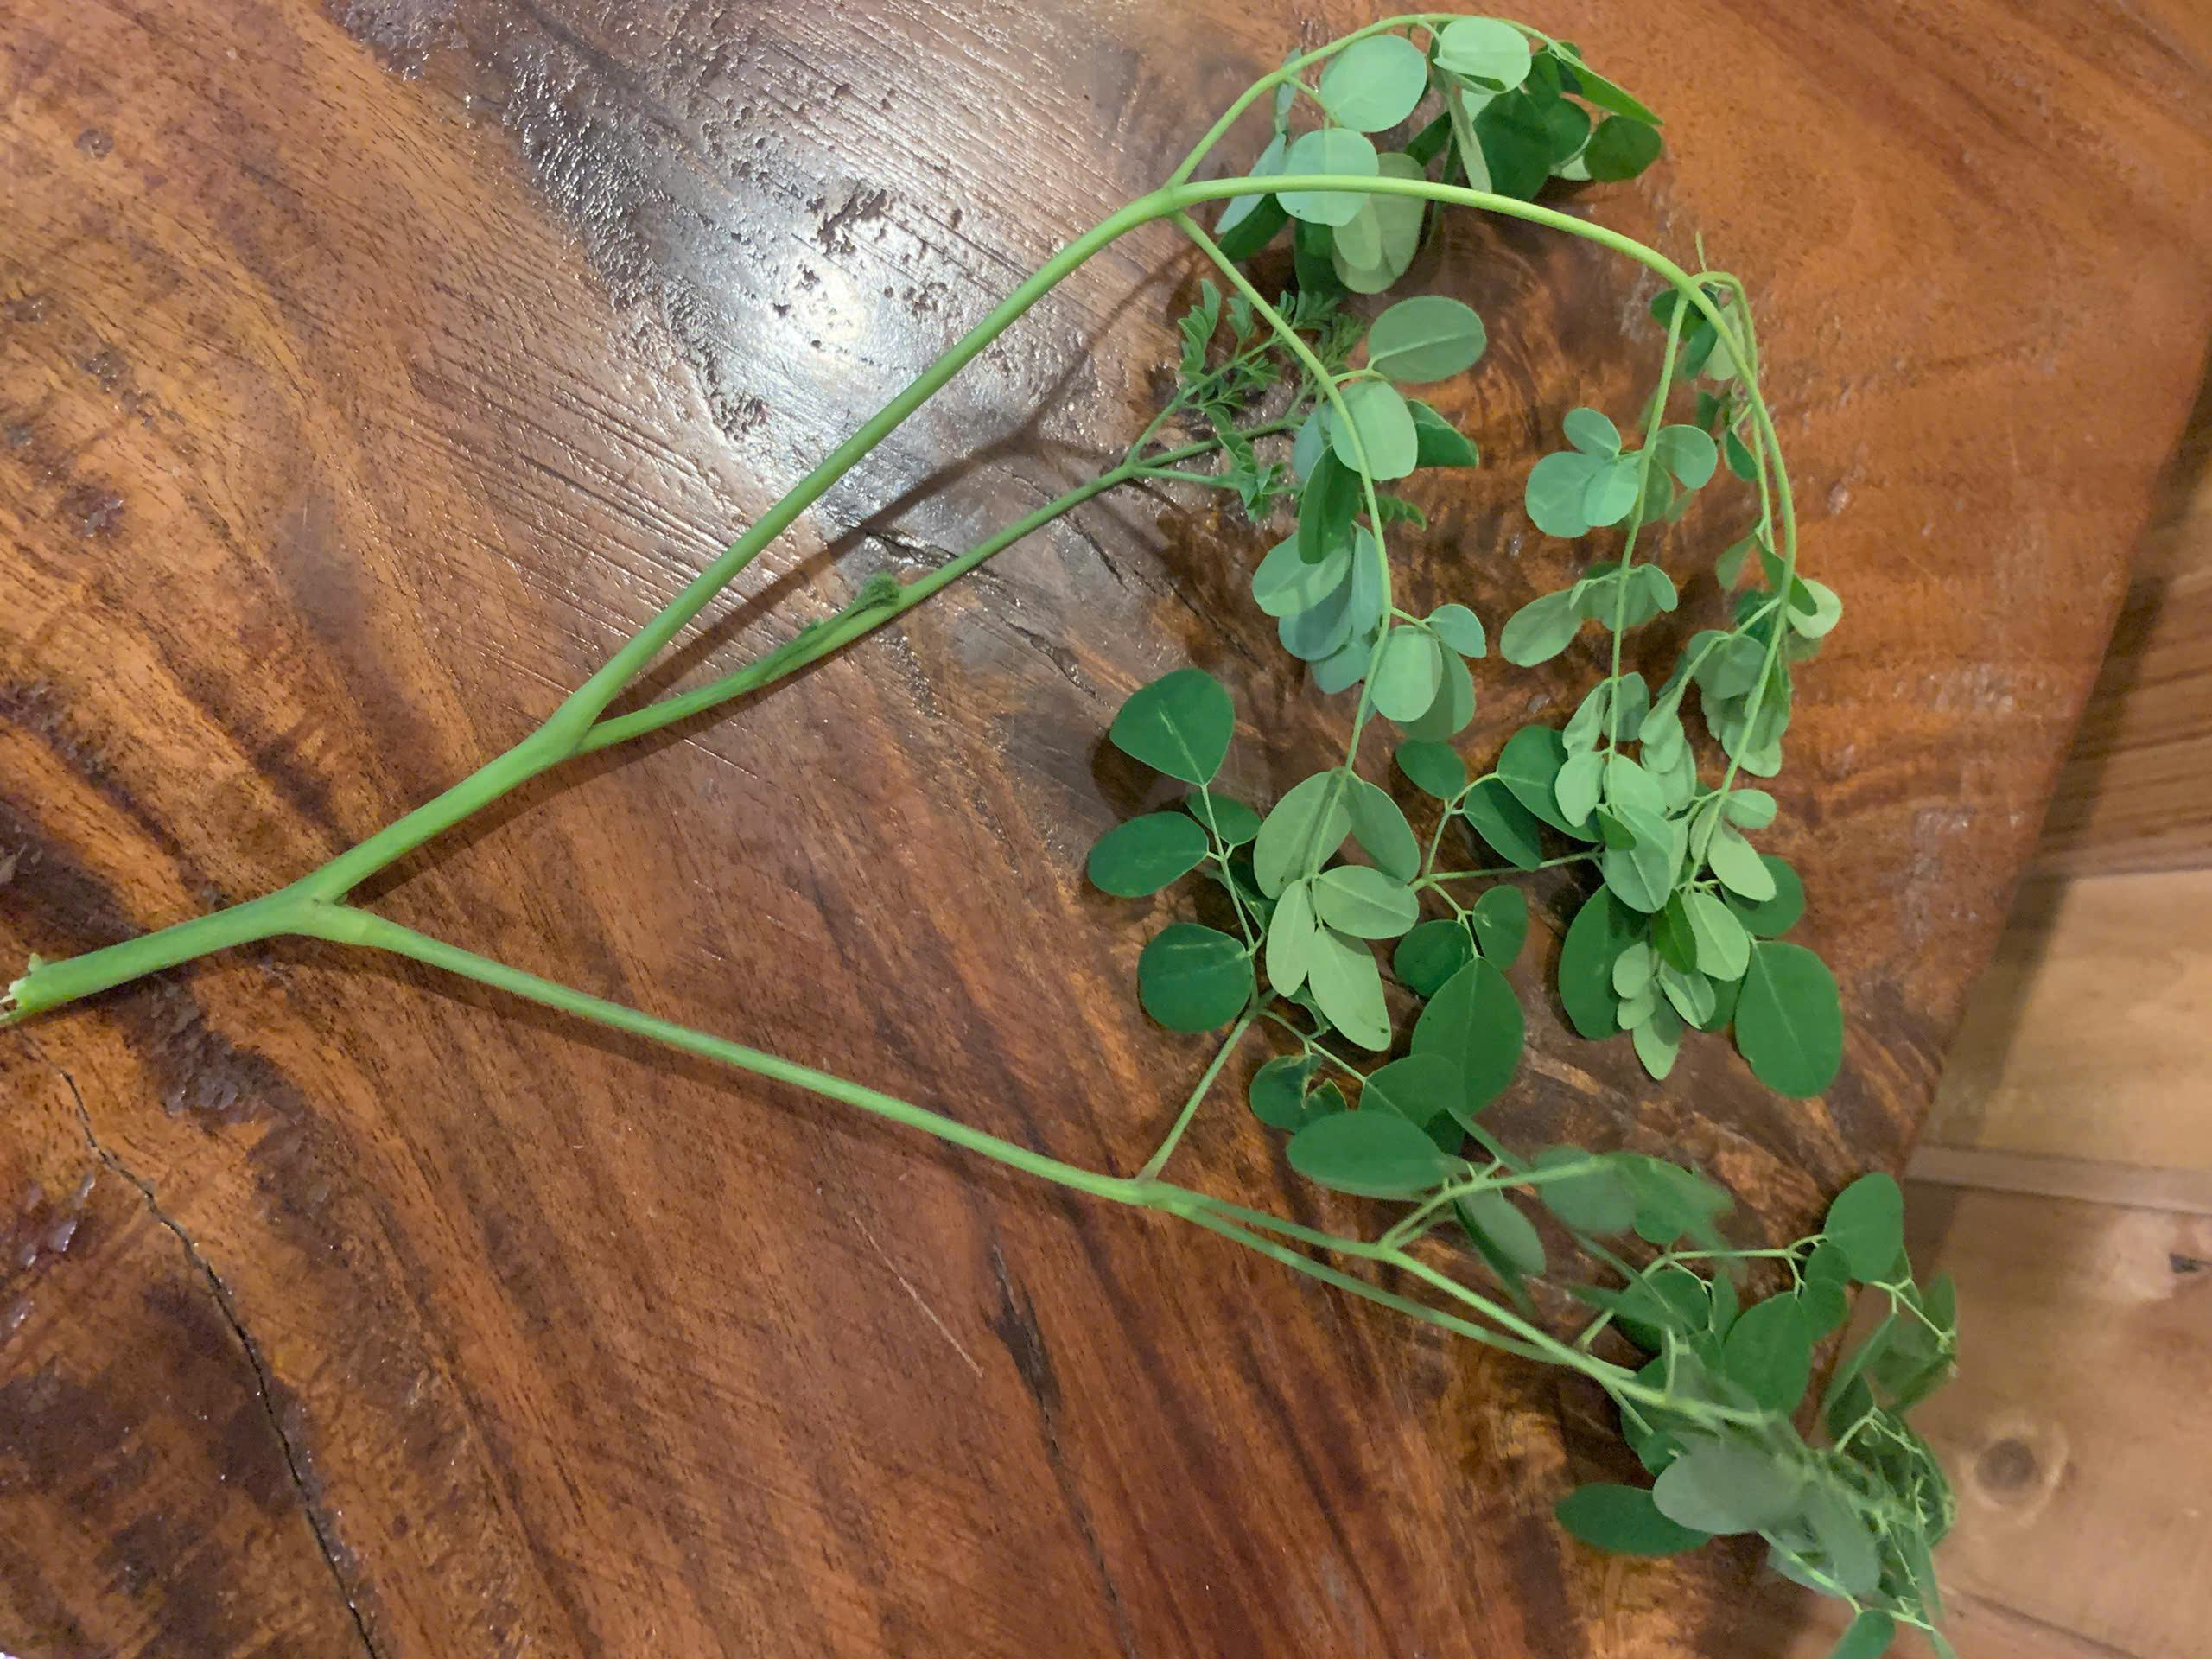Huu co: (343, 17, 1898, 1537)
